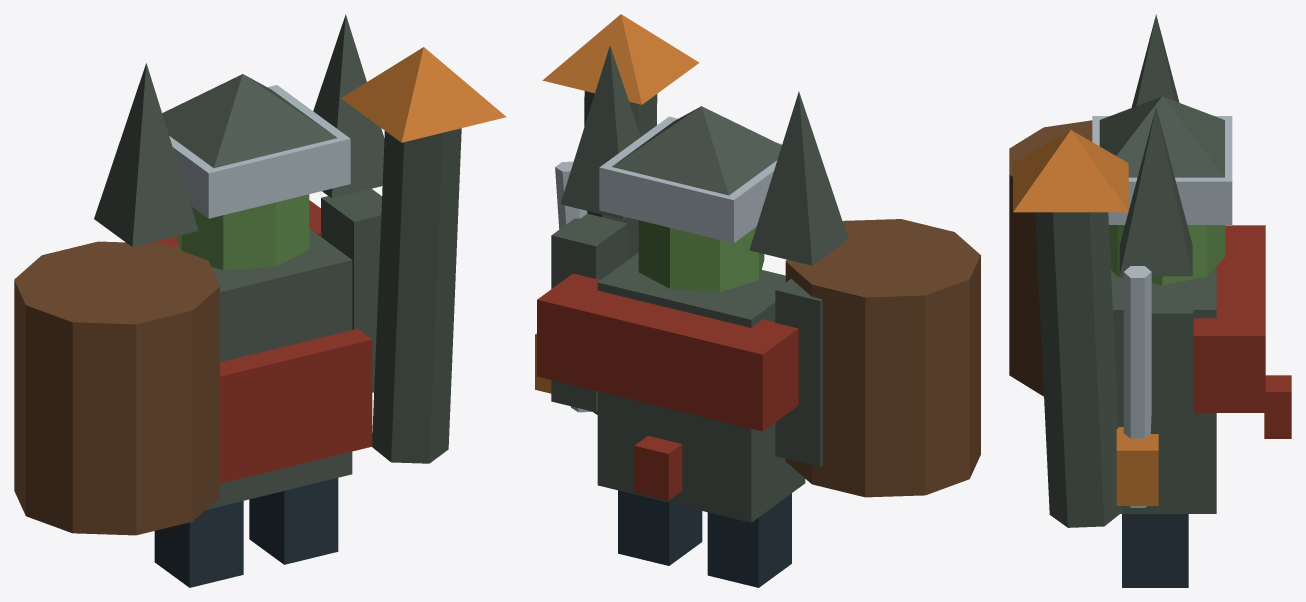
File: club-fighter.obj
3 renders of one model, left to right at view 1: azimuth 30°, elevation 25°; view 2: azimuth 150°, elevation 25°; view 3: azimuth 270°, elevation 25°, orthographic. The views are drawn at different scales.
Visible parts, largest first — view 1: infantry; view 2: infantry; view 3: infantry.
Part boxes in pixels (bbox=[...]): infantry: bbox=[14, 14, 506, 587]; infantry: bbox=[535, 14, 980, 587]; infantry: bbox=[1009, 14, 1291, 587].
Size of the model in its own units: 1.57 by 1.79 by 0.9273.
